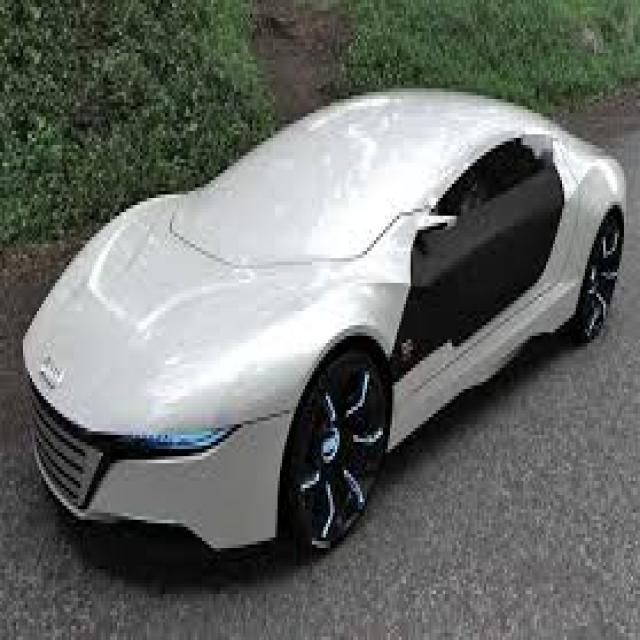car: (27, 63, 631, 566)
